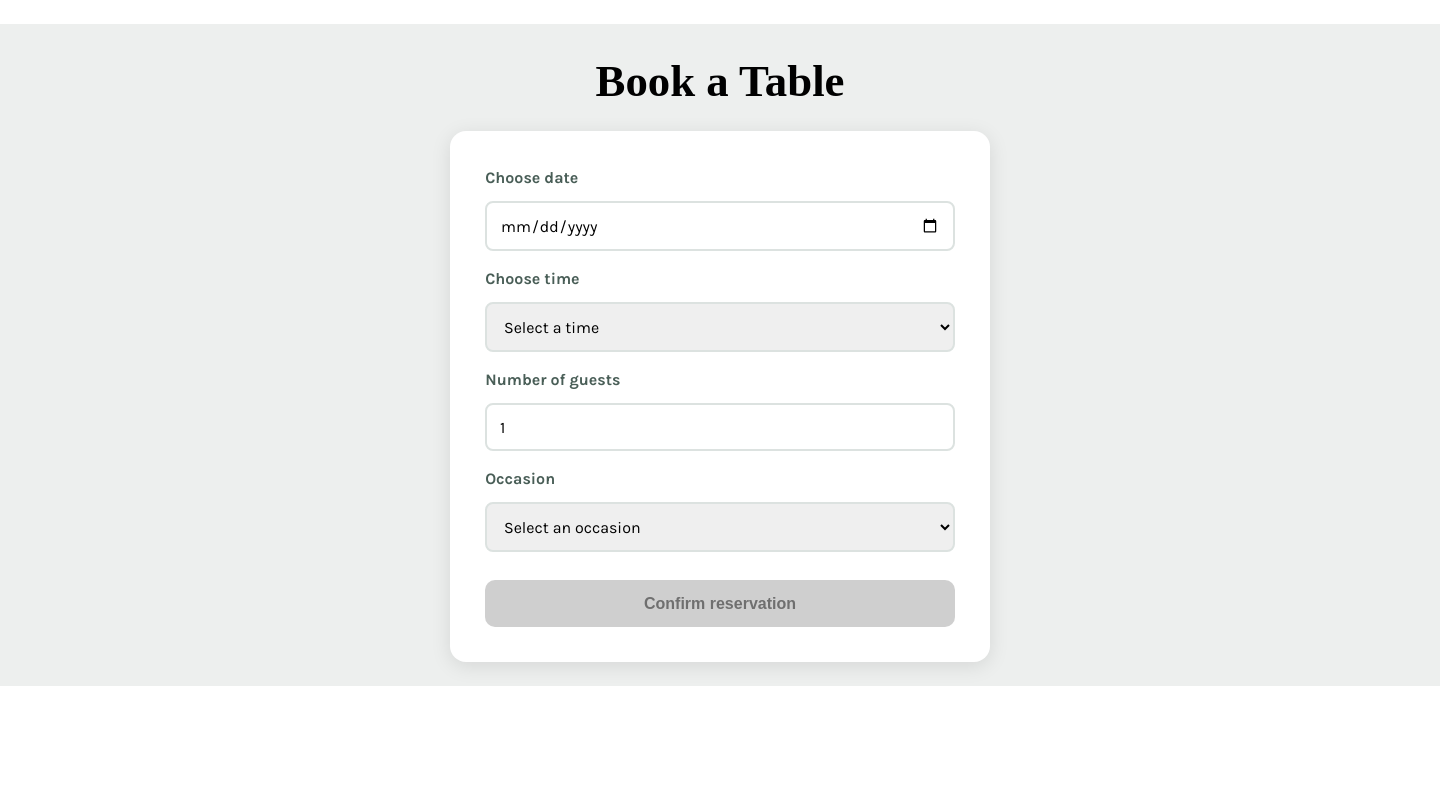
Test: Booking form validation › shows an error if guests are out of bounds
Type "11" into the number field labelled "Number of guests" at point(720, 427), box [485, 403, 955, 451]
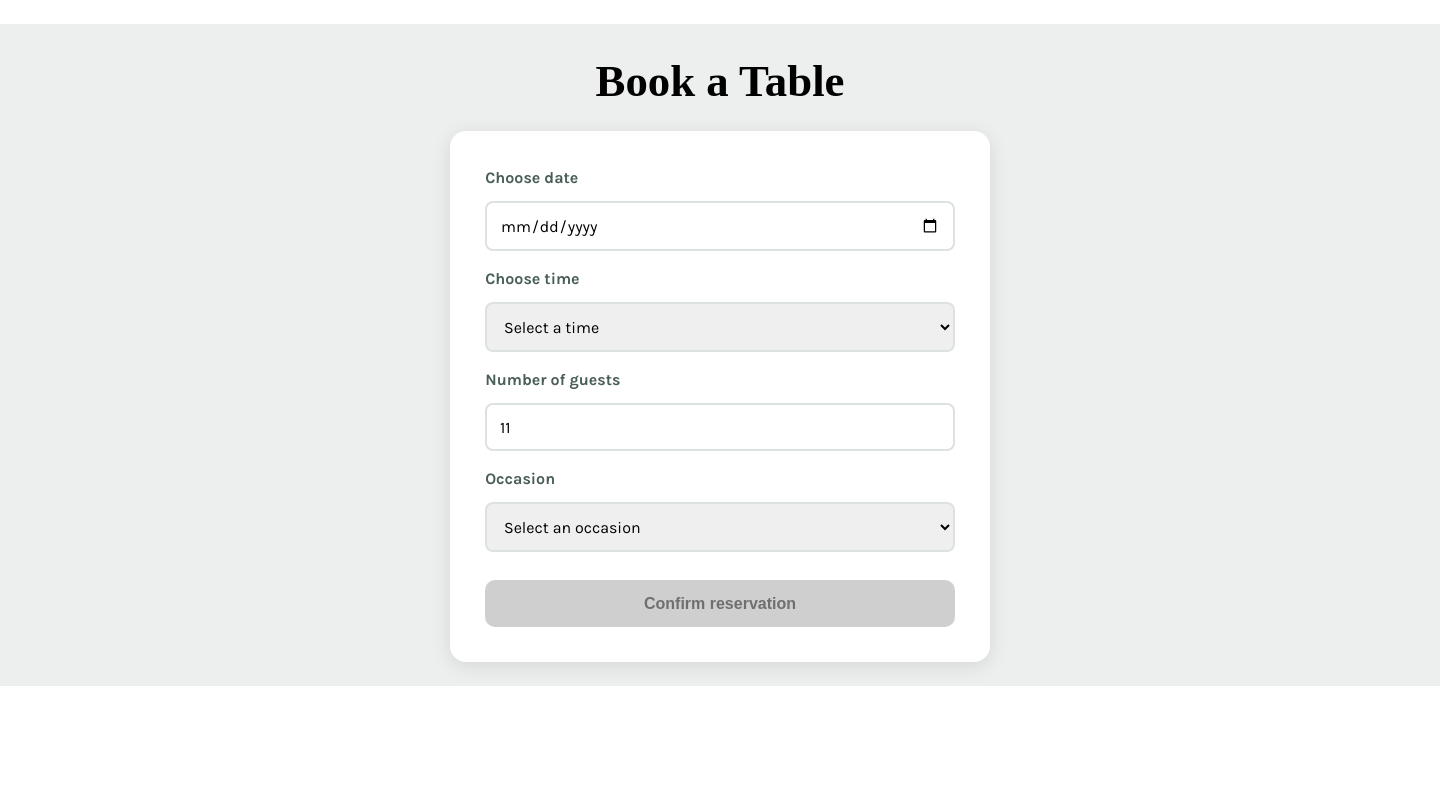
Leave the number field labelled "Number of guests", box [485, 403, 955, 451]
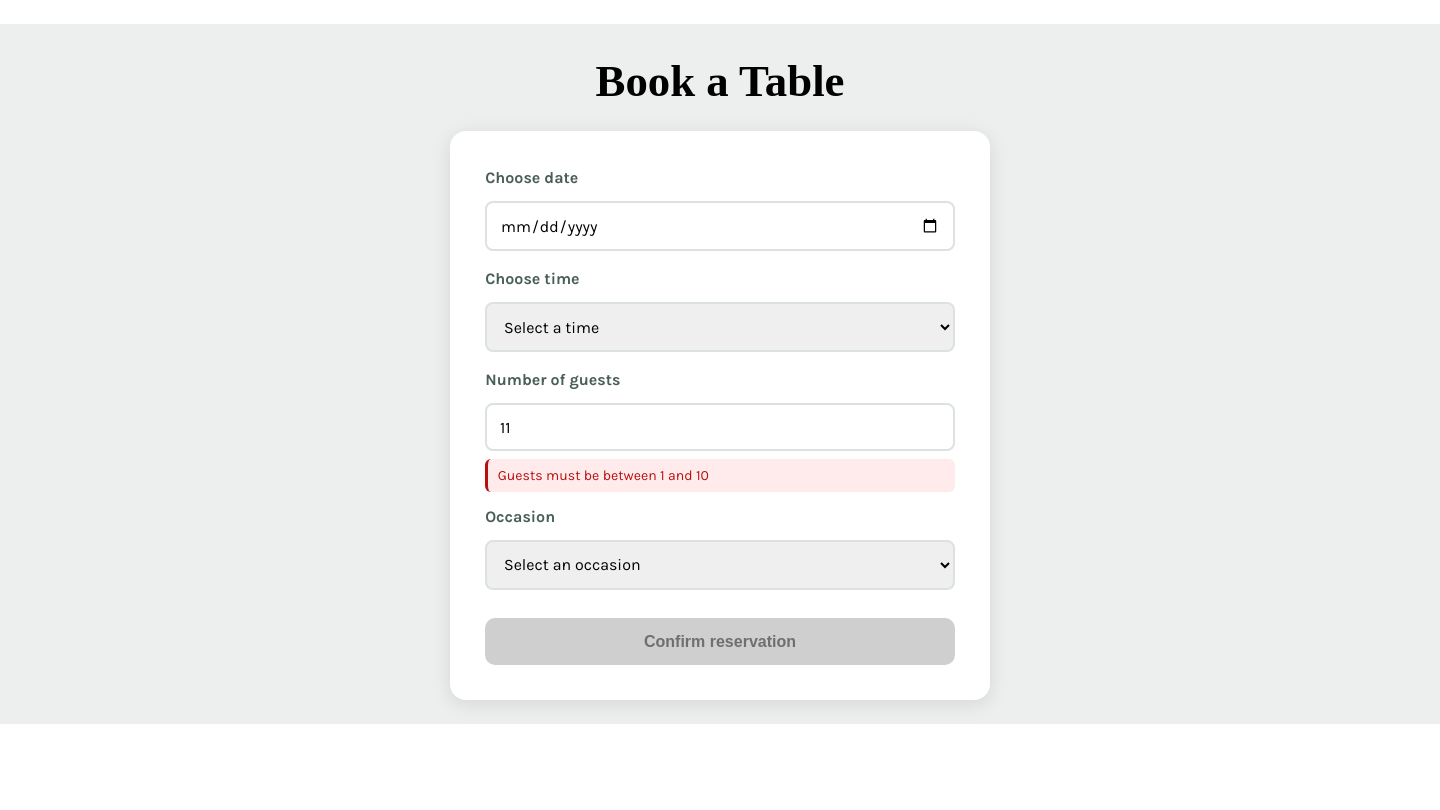
Result: the text "Guests must be between 1 and 10" is shown at [485, 458, 955, 492]
